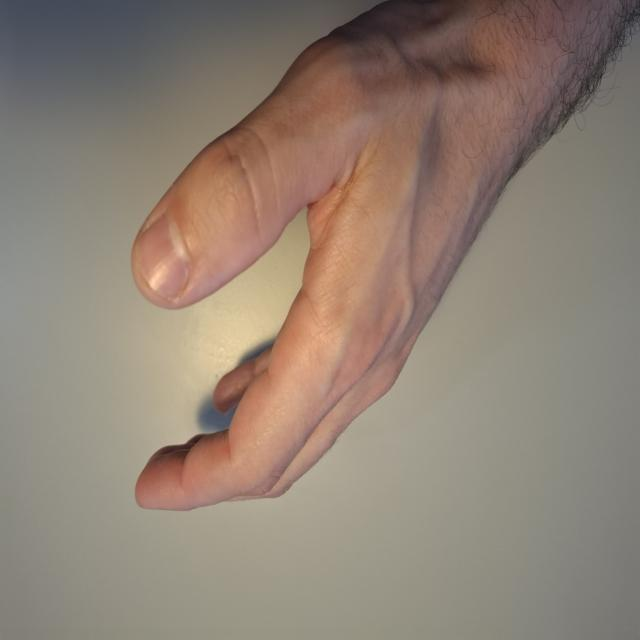glove_off: (125, 2, 553, 514)
